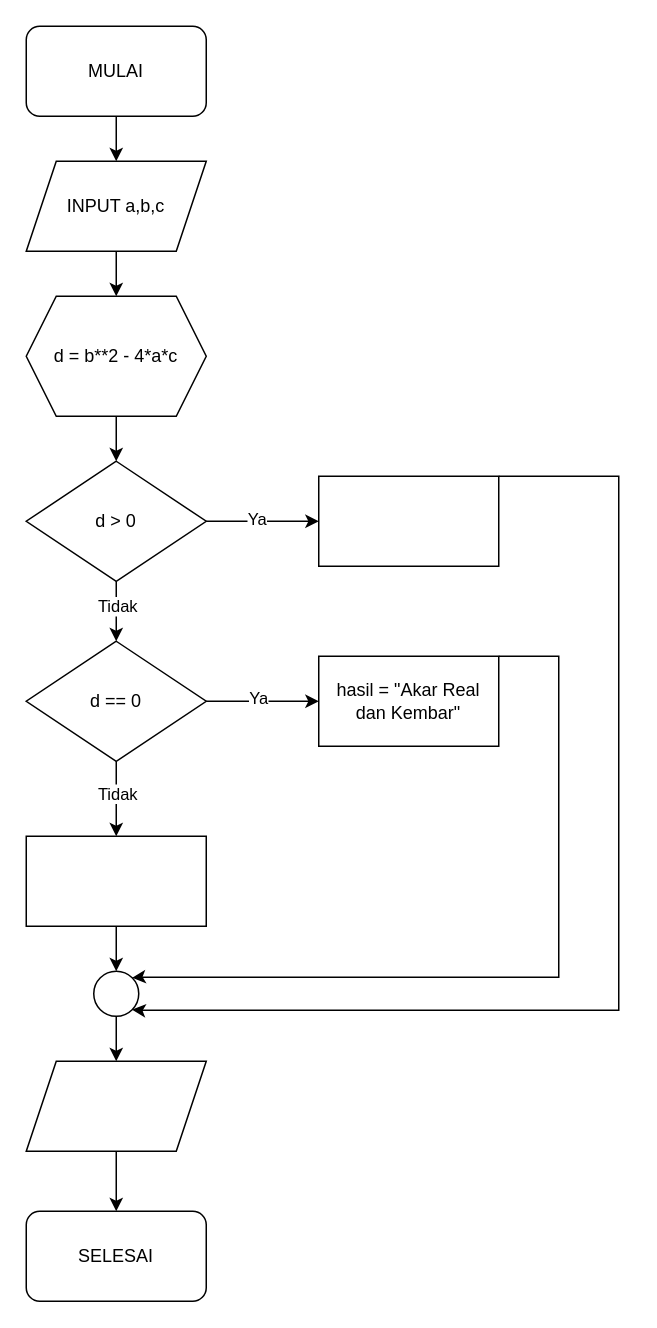
Image size: 657x1328. Some labels were removed from this diagram. Each missing label, with the box of its shape:
hasil = "Akar Imajiner/Tidak Real/Khayal": (25, 835, 206, 926)
hasil = "Akar Real dan Berlainan": (317, 475, 499, 566)
OUTPUT hasil: (25, 1060, 206, 1151)
